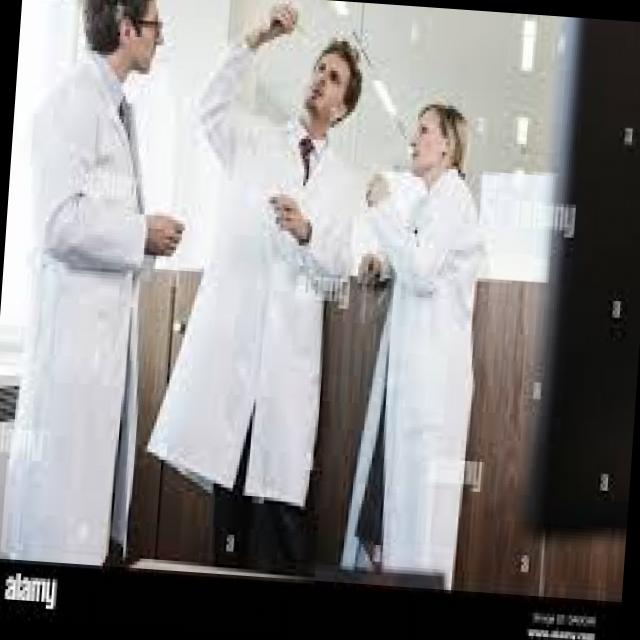Jacket: (352, 148, 493, 560), (41, 59, 188, 443), (212, 90, 356, 472)
